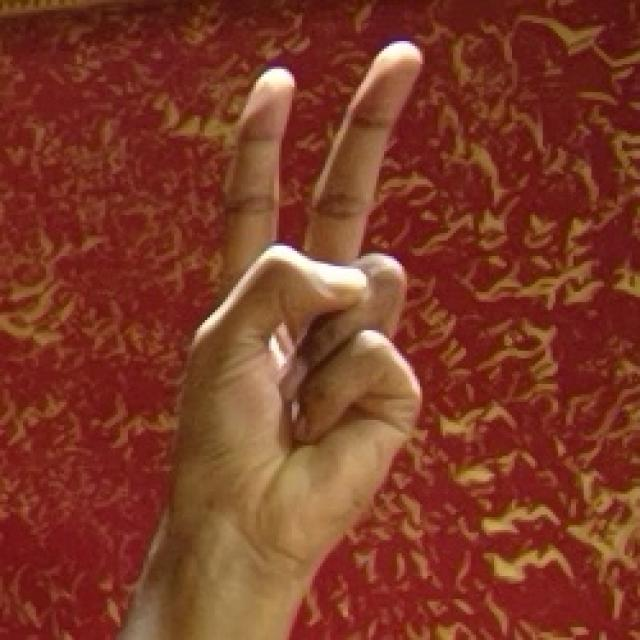Numeric-2: (205, 37, 425, 517)
